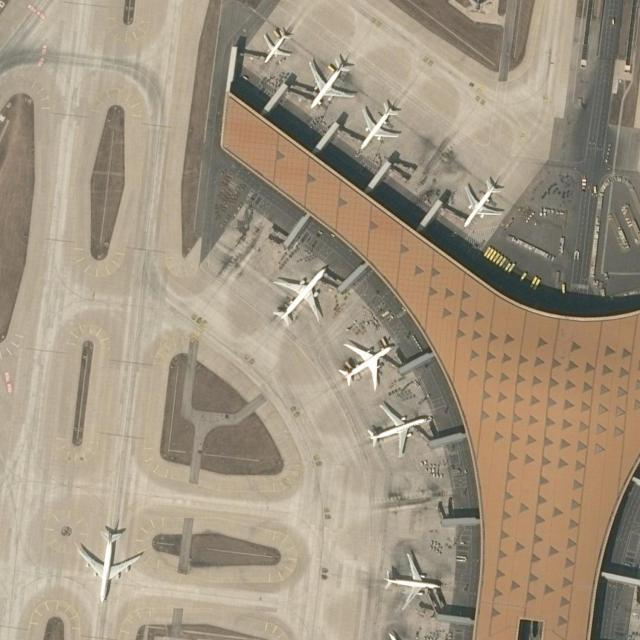Aircraft: (78, 523, 148, 605), (273, 263, 331, 331), (366, 399, 429, 459), (382, 548, 441, 609), (336, 335, 397, 389), (306, 56, 352, 113), (355, 100, 403, 146), (463, 177, 509, 223), (258, 29, 300, 65)
